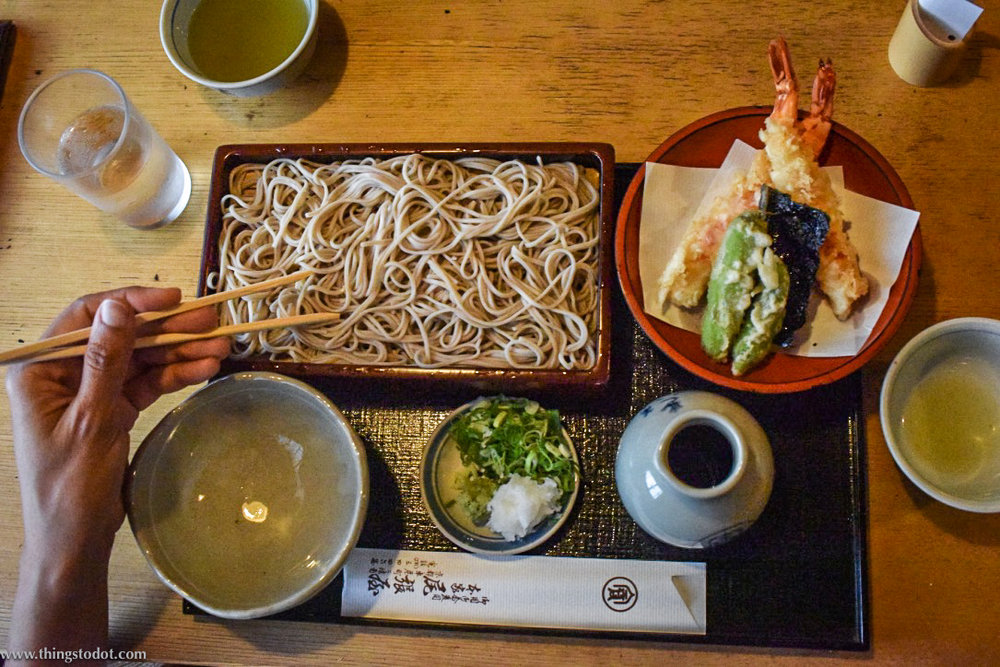Soba: (215, 141, 600, 378)
